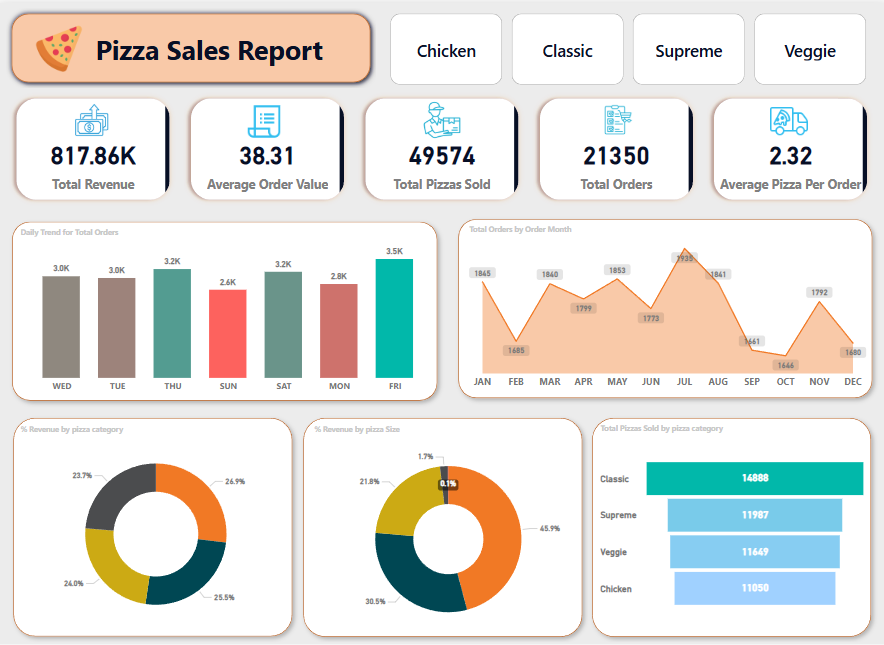

What the dashboard file says about the page in this screenshot:
{"tool":"powerbi","page":{"name":"Page 1","canvas":[1430,1035],"ordinal":0},"visuals":[{"type":"group","id":"g1","title":"Group 2","box":[16.4,135.6,1396,196],"z":0},{"type":"cardVisual","fields":{"Data":["pizza_sales.Total Revenue","pizza_sales.Average Order Value","pizza_sales.Total Pizzas Solds","pizza_sales.Total Orders","pizza_sales.Average Pizza Pre Order"]},"box":[16.4,135.6,1396.1,196.3],"z":0,"group":"g1"},{"type":"image","box":[102.9,151.6,101.9,70.2],"z":0,"group":"g2"},{"type":"shape","box":[728.4,333.6,686,310],"z":0,"group":"g4"},{"type":"group","id":"g2","title":"Group 1","box":[102.9,151.6,1212.4,70.2],"z":7,"group":"g1"},{"type":"shape","box":[480.4,651.6,470,374],"z":500,"group":"g7"},{"type":"shape","box":[16.4,7.6,592,128],"z":1000},{"type":"image","box":[967.8,158,58.7,57.4],"z":1000,"group":"g2"},{"type":"areaChart","fields":{"Category":["pizza_sales.Order Month"],"Y":["pizza_sales.Total Orders"]},"box":[752.4,353.6,646,272],"z":1000,"group":"g4"},{"type":"textbox","box":[153.3,40,716.7,93.3],"z":2000},{"type":"image","box":[665.1,151.6,98.8,70.2],"z":2000,"group":"g2"},{"type":"image","box":[1225.7,151.6,89.6,70.2],"z":3000,"group":"g2"},{"type":"group","id":"g3","title":"Group 3","box":[14.4,337.6,704,310],"z":3000},{"type":"shape","box":[14.4,337.6,704,310],"z":3000,"group":"g3"},{"type":"image","box":[399.4,158,61.8,63.8],"z":4000,"group":"g2"},{"type":"group","id":"g4","title":"Group 4","box":[728.4,333.6,686,310],"z":4000},{"type":"columnChart","title":"Daily Trend for Total Orders","fields":{"Category":["pizza_sales.Order Day"],"Y":["pizza_sales.Total Orders"]},"box":[34.4,357.6,676,274],"z":4000,"group":"g3"},{"type":"shape","box":[16.4,652,470,373.3],"z":4000,"group":"g6"},{"type":"group","id":"g5","title":"Group 5","box":[942.4,651.6,470,374],"z":5000},{"type":"group","id":"g6","title":"Group 7","box":[16.4,652,470,373.3],"z":6000},{"type":"group","id":"g7","title":"Group 6","box":[480.4,651.6,470,374],"z":7000},{"type":"advancedSlicerVisual","fields":{"Values":["pizza_sales.pizza_category"]},"box":[625.7,12.4,772.9,124.3],"z":8000},{"type":"donutChart","title":"% Revenue by pizza category","fields":{"Y":["pizza_sales.Total Revenue"],"Category":["pizza_sales.pizza_category"]},"box":[34.4,673.6,444,336],"z":8000,"group":"g6"},{"type":"image","box":[56.7,30,90,86.7],"z":9000},{"type":"donutChart","title":"% Revenue by pizza Size","fields":{"Y":["pizza_sales.Total Revenue"],"Category":["pizza_sales.pizza_size"]},"box":[504.4,673.6,440,352],"z":9000,"group":"g7"},{"type":"shape","box":[942.4,651.6,470,374],"z":9500,"group":"g5"},{"type":"funnel","title":"Total Pizzas Sold by pizza category","fields":{"Category":["pizza_sales.pizza_category"],"Y":["pizza_sales.Total Pizzas Sold"]},"box":[962.4,671.6,436,338],"z":10000,"group":"g5"}]}

Visuals, with their boxes in screenshot pixels (x1, y1, x2, y2), scaled from the page's 1430x1035 canvas onto the 884x645 screenshot:
"Group 2" group: <region>10, 85, 873, 207</region>
cardVisual - pizza_sales.Total Revenue x pizza_sales.Average Order Value: <region>10, 85, 873, 207</region>
image: <region>64, 94, 127, 138</region>
shape: <region>450, 208, 874, 401</region>
"Group 1" group: <region>64, 94, 813, 138</region>
shape: <region>297, 406, 588, 639</region>
shape: <region>10, 5, 376, 85</region>
image: <region>598, 98, 635, 134</region>
areaChart - pizza_sales.Order Month x pizza_sales.Total Orders: <region>465, 220, 864, 390</region>
textbox: <region>95, 25, 538, 83</region>
image: <region>411, 94, 472, 138</region>
image: <region>758, 94, 813, 138</region>
"Group 3" group: <region>9, 210, 444, 404</region>
shape: <region>9, 210, 444, 404</region>
image: <region>247, 98, 285, 138</region>
"Group 4" group: <region>450, 208, 874, 401</region>
"Daily Trend for Total Orders" columnChart: <region>21, 223, 439, 394</region>
shape: <region>10, 406, 301, 639</region>
"Group 5" group: <region>583, 406, 873, 639</region>
"Group 7" group: <region>10, 406, 301, 639</region>
"Group 6" group: <region>297, 406, 588, 639</region>
advancedSlicerVisual - pizza_sales.pizza_category: <region>387, 8, 865, 85</region>
"% Revenue by pizza category" donutChart: <region>21, 420, 296, 629</region>
image: <region>35, 19, 91, 73</region>
"% Revenue by pizza Size" donutChart: <region>312, 420, 584, 639</region>
shape: <region>583, 406, 873, 639</region>
"Total Pizzas Sold by pizza category" funnel: <region>595, 419, 864, 629</region>
